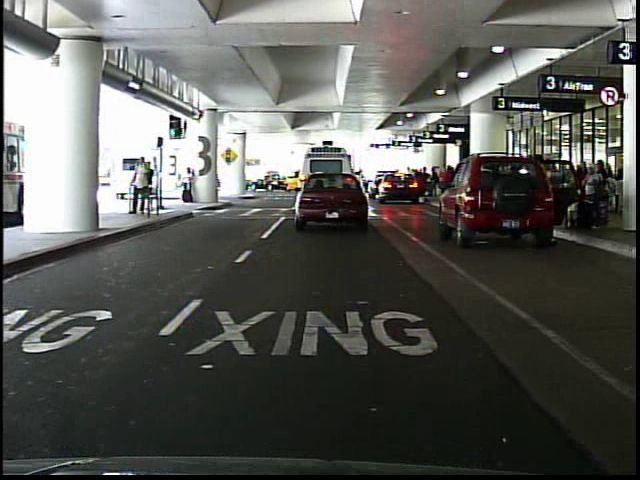person: (529, 153, 560, 234), (129, 154, 151, 220), (145, 161, 161, 218), (179, 167, 198, 208), (438, 163, 455, 201)
